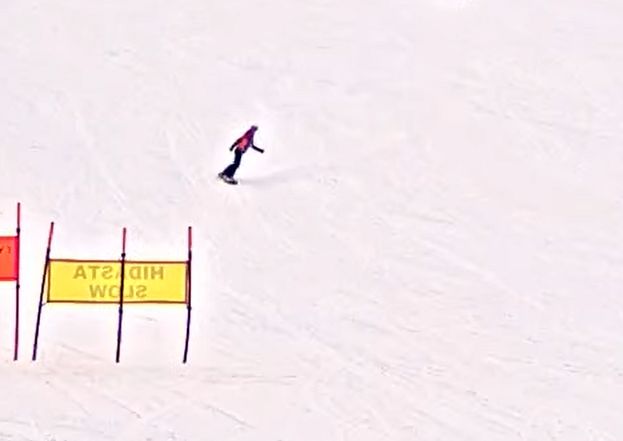snowboarder: (216, 124, 266, 185)
